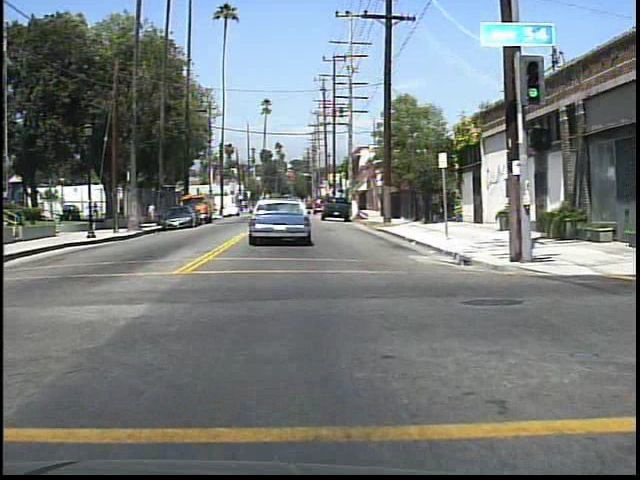person: (115, 195, 128, 219), (147, 197, 158, 224), (89, 198, 102, 219)
